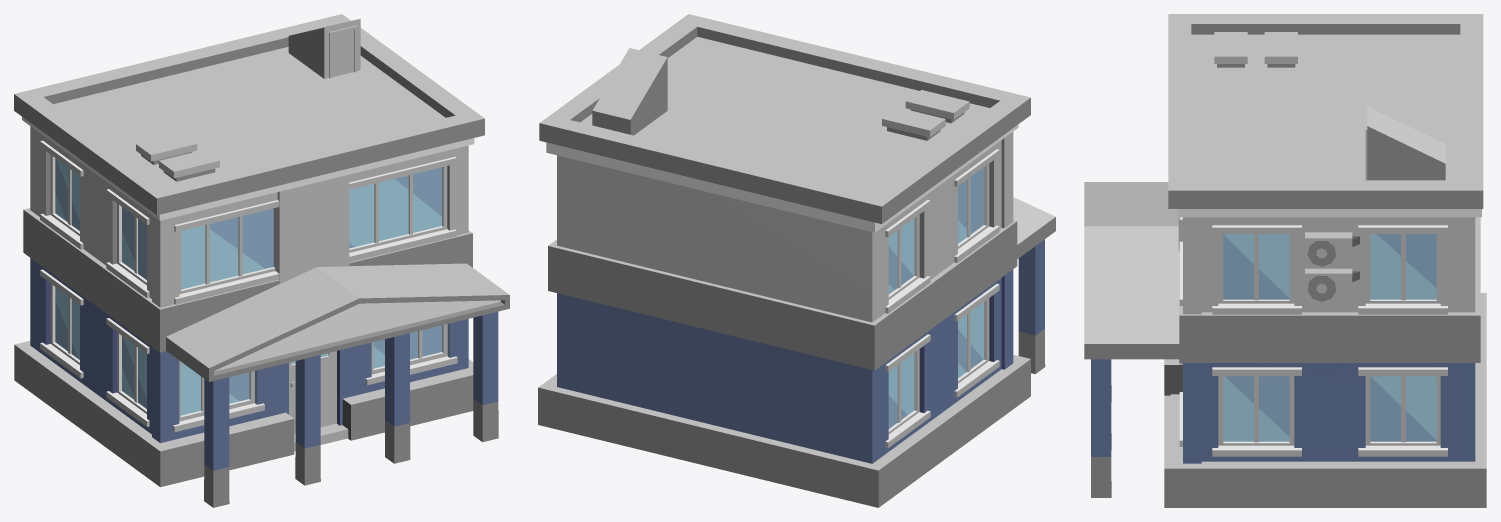
Rendered from bank_007.fbx.
3 views of the same model, side by side, from view 1: azimuth 30°, elevation 25°; view 2: azimuth 150°, elevation 25°; view 3: azimuth 270°, elevation 25° (orthographic). The views are drawn at different scales.
Parts seen in each view (by area): view 1: bank_007; view 2: bank_007; view 3: bank_007.
Part boxes in pixels (x1,y1,x2,y2): bank_007: (14,14,509,507); bank_007: (538,14,1055,507); bank_007: (1084,14,1486,507).
Bounding box in the file's own units: 714 × 688 × 687.
